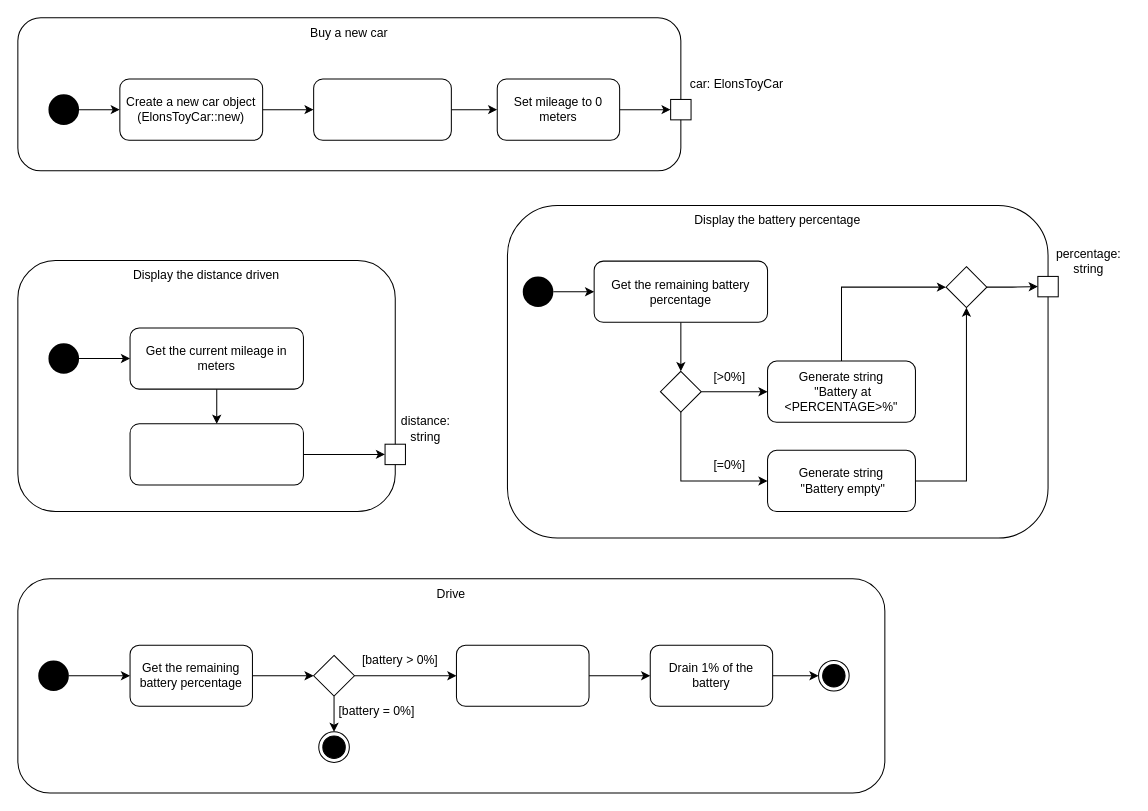
This 1148x811 diagram has some shape labels left out. The shapes that lost their labels are listed below. From the top down, each one's box as (x1, y1, x2, y2) in pixels, then its label:
(313, 78, 451, 140): Charge its battery to 100%
(129, 423, 303, 485): Generate string "Driven <METERS> meters"
(455, 644, 589, 706): Drive 20 meters and add it to the mileage
